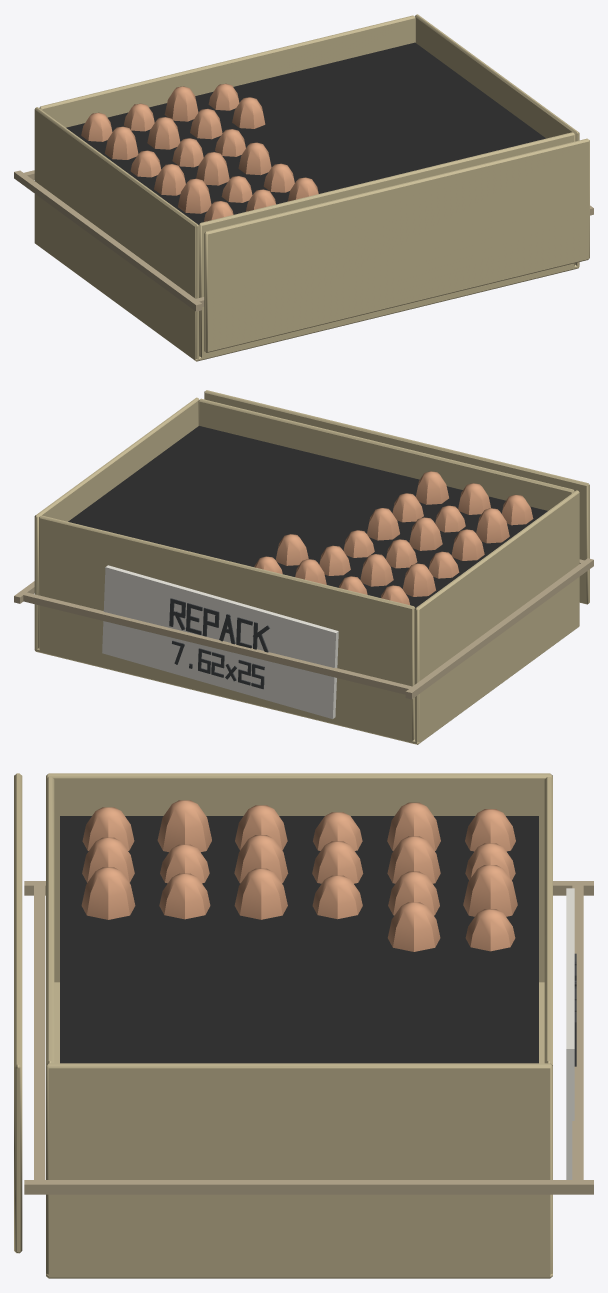
File: ammo_762x25_repack.glb
The picture shows the model from 3 angles, top to bottom: view 1: azimuth 30°, elevation 25°; view 2: azimuth 150°, elevation 25°; view 3: azimuth 270°, elevation 25°; orthographic projection. The views are drawn at different scales.
Visible parts, largest first — view 1: body; view 2: body; view 3: body.
Part boxes in pixels (box(x1,y1,x2,y2)): body: box(14, 14, 593, 361); body: box(14, 390, 593, 744); body: box(14, 773, 593, 1278).
Size of the model in its own units: 0.1034 by 0.0348 by 0.0835.
